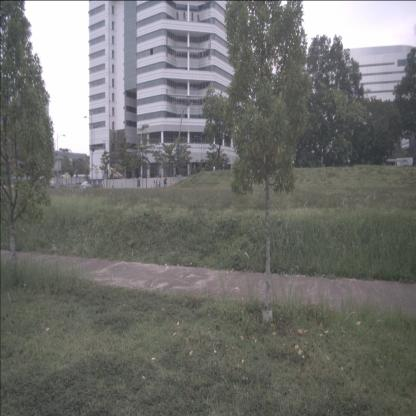vehicle-car: (80, 181, 93, 190)
